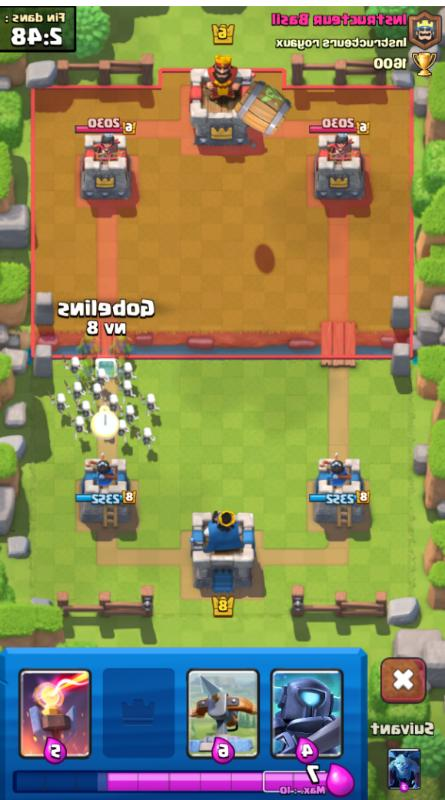gobelin: (106, 331, 136, 366), (75, 328, 102, 362)
squelette: (113, 375, 138, 403), (63, 377, 86, 407), (46, 390, 70, 418), (137, 391, 161, 417), (117, 360, 140, 387), (132, 424, 154, 449), (88, 365, 110, 390), (60, 353, 82, 378), (69, 414, 90, 440), (74, 399, 95, 422), (101, 393, 122, 415), (114, 418, 129, 447), (120, 404, 138, 427)
